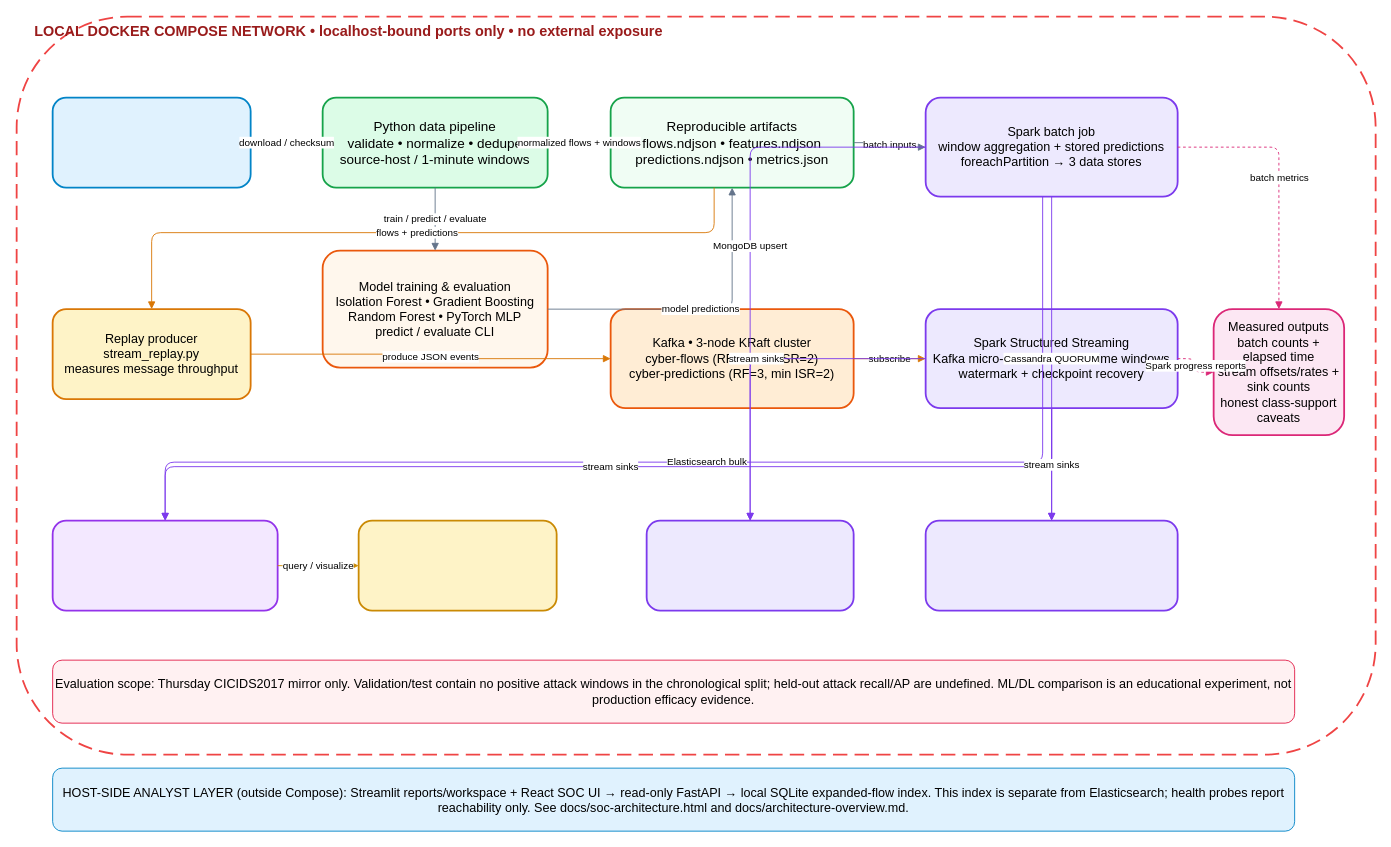
The diagram is 1391 pixels wide and 847 high, and some of its shapes have lost their labels. Here are the shapes that lost their labels. From the top down, the centre of each, then its label:
the point at 151,142: CICIDS2017 Thursday CSV 170,366 labeled flows partial benchmark slice
the point at 164,565: Elasticsearch 8.17 cyber-flows* • cyber-features* cyber-findings* indices
the point at 457,565: Kibana 8.17 4 local dashboards 32 linked visualizations
the point at 749,565: MongoDB 9 3-node replica set upsert by deterministic ID
the point at 1051,565: Cassandra 5 3-node ring • RF=3 / QUORUM event_rows by UTC day + source
